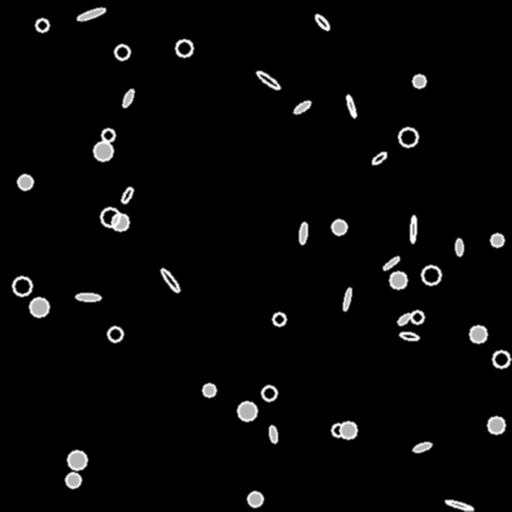pseudomonas: (159, 267, 181, 293), (255, 70, 281, 90), (77, 6, 105, 22), (444, 498, 474, 512), (382, 255, 400, 271), (314, 13, 330, 31), (370, 150, 388, 166), (121, 88, 135, 108), (345, 95, 357, 117), (396, 311, 412, 327), (293, 100, 311, 114), (412, 441, 432, 453), (120, 187, 134, 203), (342, 288, 352, 310), (298, 223, 308, 243), (400, 331, 418, 341), (410, 215, 416, 243), (76, 294, 100, 300), (269, 426, 277, 442), (456, 238, 462, 256)
synechocystis: (30, 298, 48, 316), (399, 128, 417, 146), (422, 266, 440, 284), (238, 402, 256, 420), (94, 142, 112, 160), (68, 451, 86, 469), (13, 277, 31, 295), (101, 208, 119, 226), (390, 272, 406, 288), (112, 214, 128, 230), (470, 326, 486, 342), (488, 417, 504, 433), (340, 422, 356, 438), (176, 40, 192, 56), (493, 351, 509, 367), (115, 45, 129, 59), (108, 327, 122, 341), (262, 386, 276, 400), (66, 473, 80, 487), (332, 220, 346, 234), (18, 175, 32, 189), (248, 492, 262, 506), (102, 129, 114, 141), (413, 75, 425, 87), (36, 19, 48, 31), (273, 313, 285, 325), (332, 424, 344, 436), (411, 311, 423, 323), (203, 384, 215, 396), (491, 234, 503, 246)
